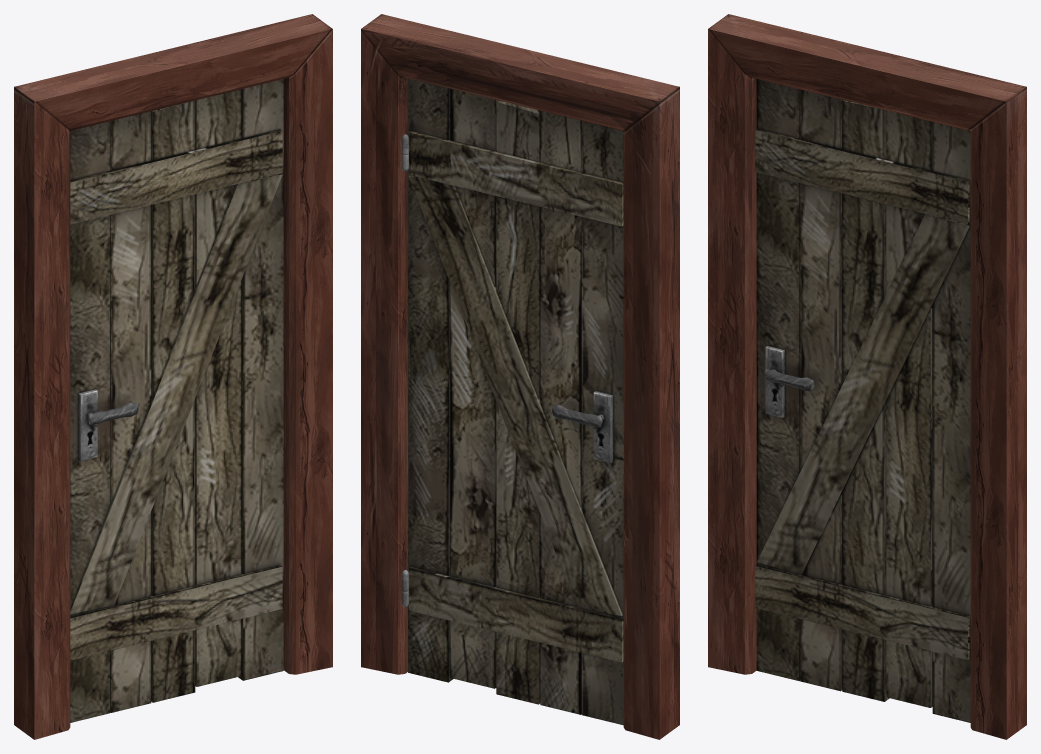
Rendered from rusticDoor.fbx.
3 views of the same model, side by side, from view 1: azimuth 30°, elevation 25°; view 2: azimuth 150°, elevation 25°; view 3: azimuth 330°, elevation 25° (orthographic).
Parts seen in each view (by area): view 1: polySurface1512, polySurface1510; view 2: polySurface1512, polySurface1510; view 3: polySurface1512, polySurface1510.
Part boxes in pixels (left/top/right/bottom): polySurface1512: left=70, top=79, right=283, bottom=722; polySurface1510: left=14, top=14, right=332, bottom=739; polySurface1512: left=408, top=78, right=623, bottom=725; polySurface1510: left=361, top=14, right=679, bottom=739; polySurface1512: left=755, top=79, right=970, bottom=722; polySurface1510: left=708, top=14, right=1026, bottom=739.
Bounding box in the file's own units: 112 × 228 × 16.49.
